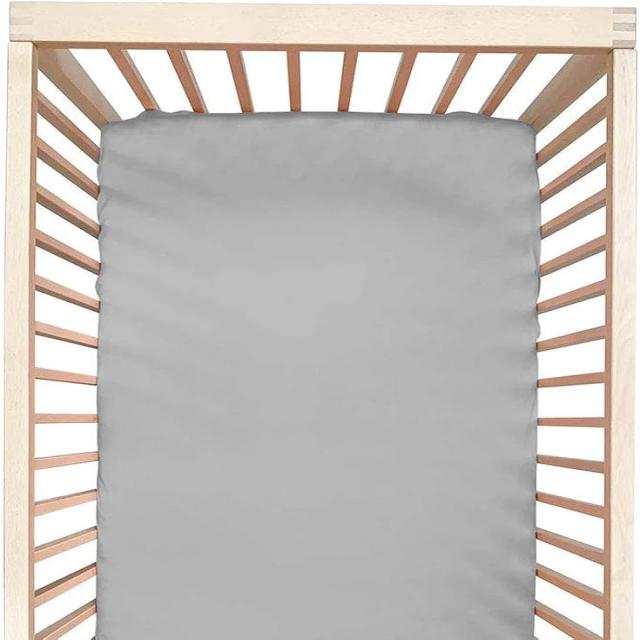crib: (3, 3, 636, 638)
